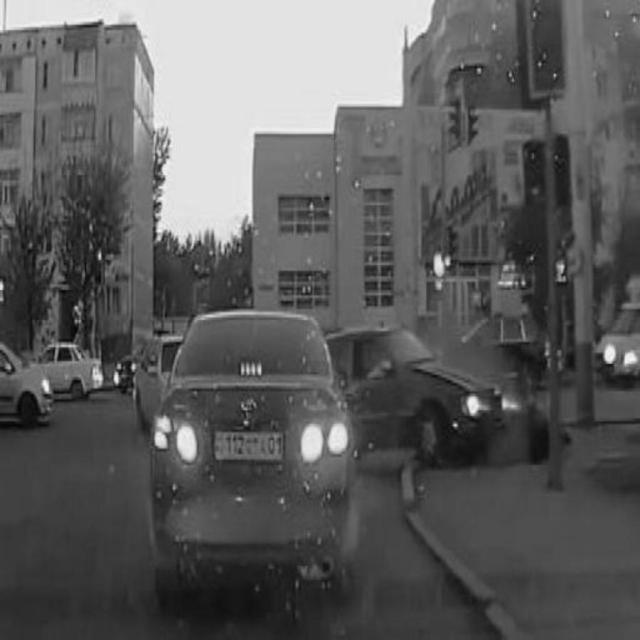vehicle: (150, 307, 364, 591), (336, 326, 502, 460)
